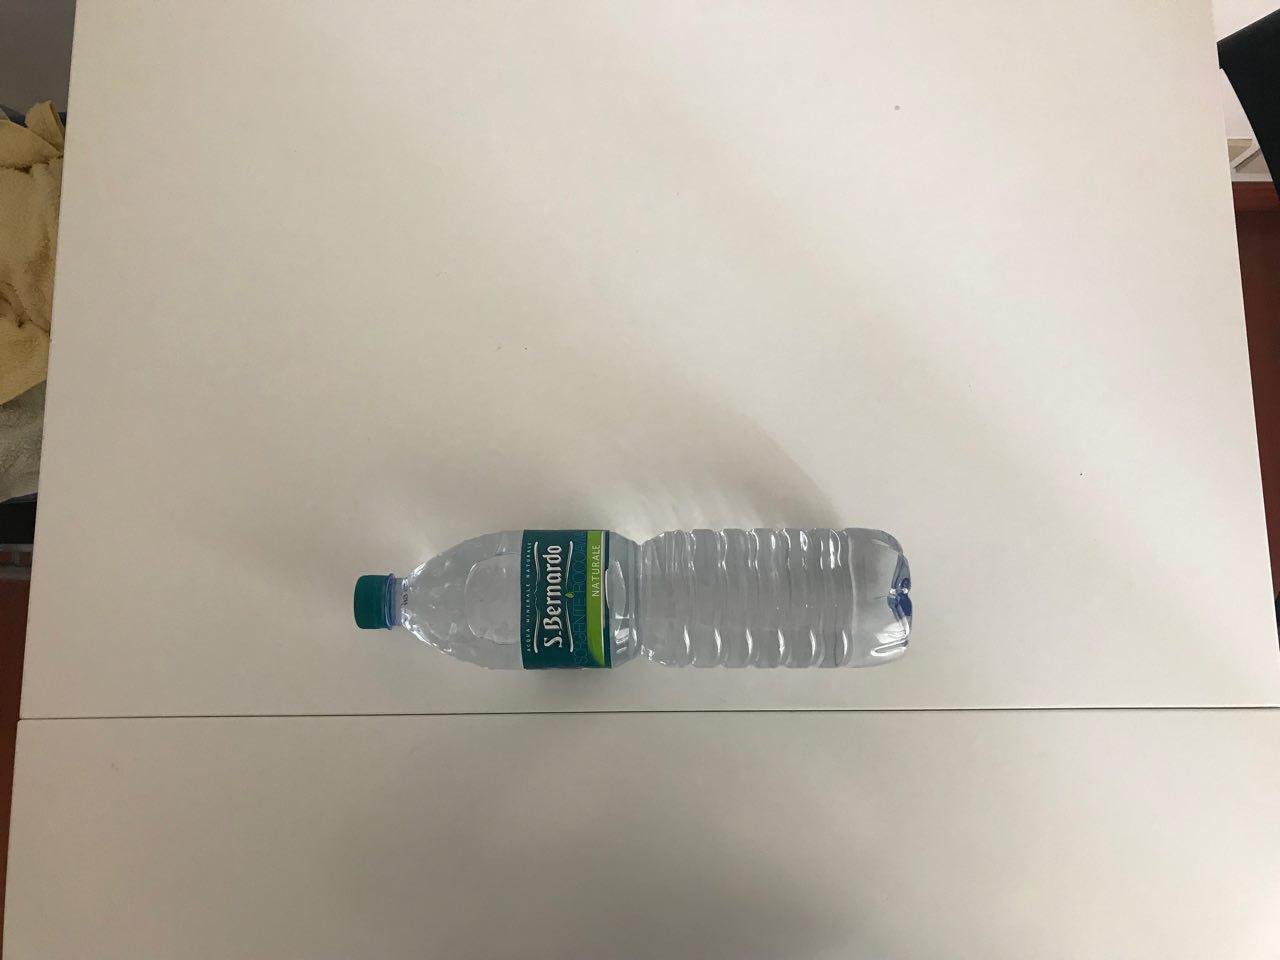san_bernardo: (352, 527, 914, 672)
